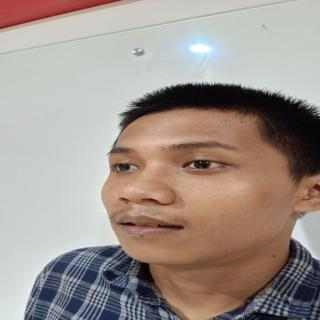Takut: (95, 106, 300, 269)
